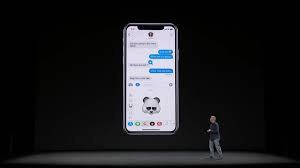iphone10: (122, 22, 179, 137)
